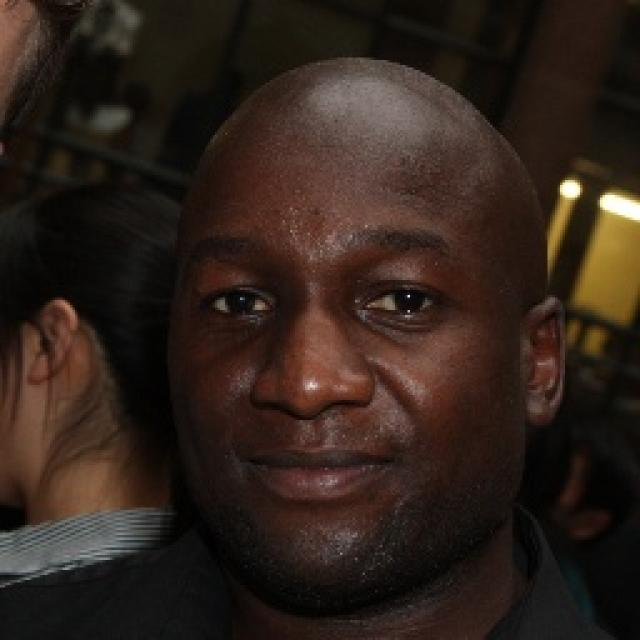earlobe: (521, 296, 567, 426)
